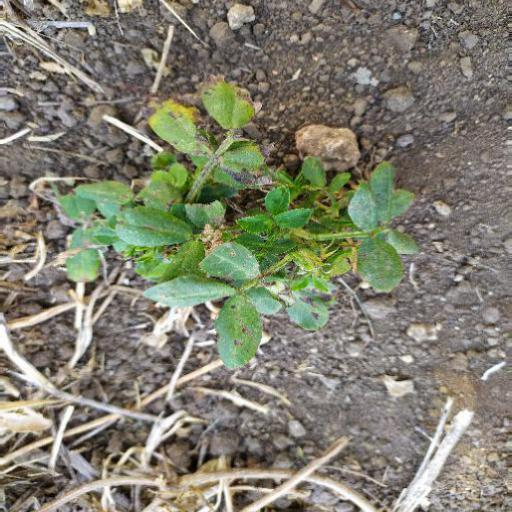weed: (49, 94, 423, 364)
